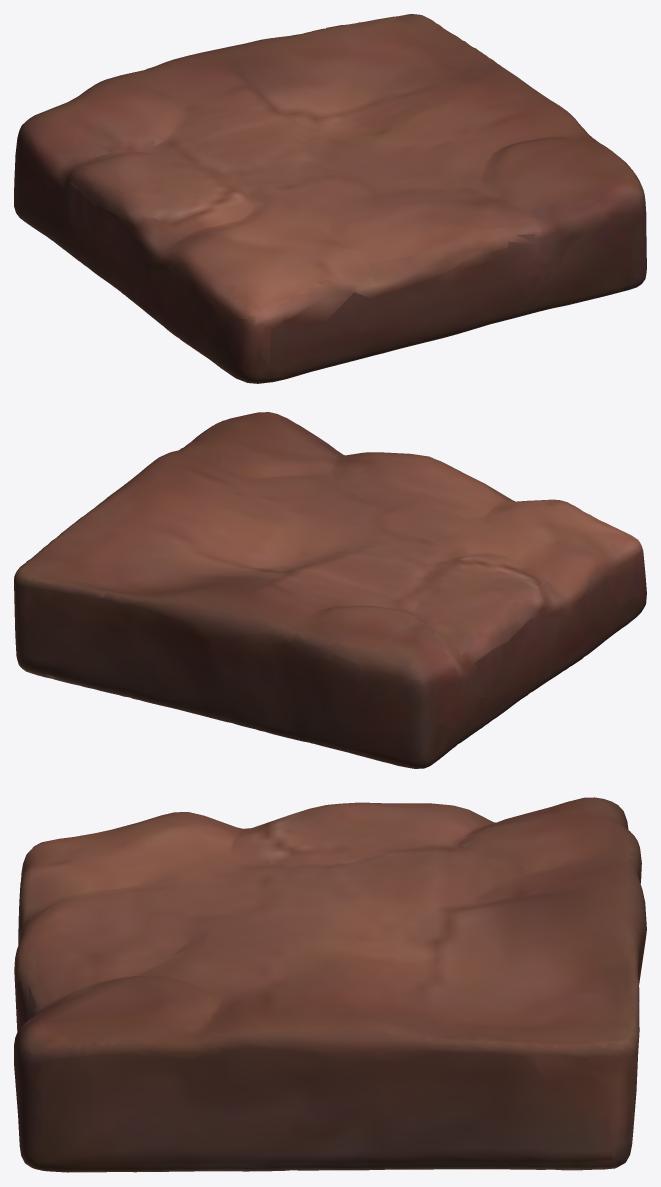
Rendered from m06_terra_vermelha.glb.
3 views of the same model, one above another, from view 1: azimuth 30°, elevation 25°; view 2: azimuth 150°, elevation 25°; view 3: azimuth 270°, elevation 25° (orthographic). The views are drawn at different scales.
Visible parts, largest first — view 1: m06_terra_vermelha; view 2: m06_terra_vermelha; view 3: m06_terra_vermelha.
Boxes of the visible parts, x1,y1,x2,y2 form: m06_terra_vermelha: (14, 14, 646, 383); m06_terra_vermelha: (14, 412, 646, 768); m06_terra_vermelha: (14, 797, 646, 1172).
Bounding box in the file's own units: 0.9916 × 0.2893 × 1.01.
1 material, 1 textured.
